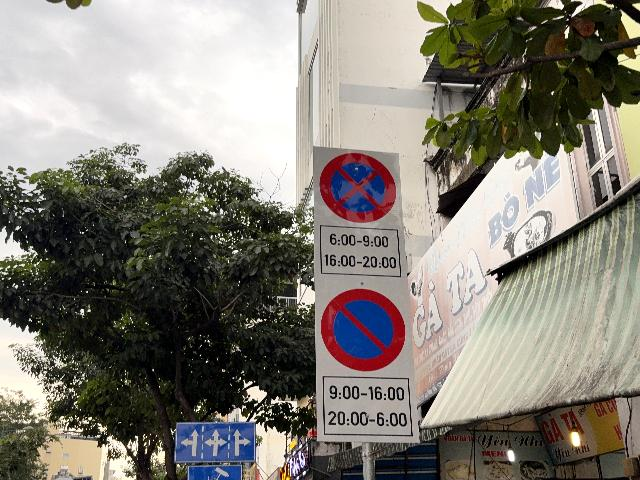cam-do-xe: (321, 288, 406, 371)
cam-dung-va-do-xe: (319, 152, 396, 224)
